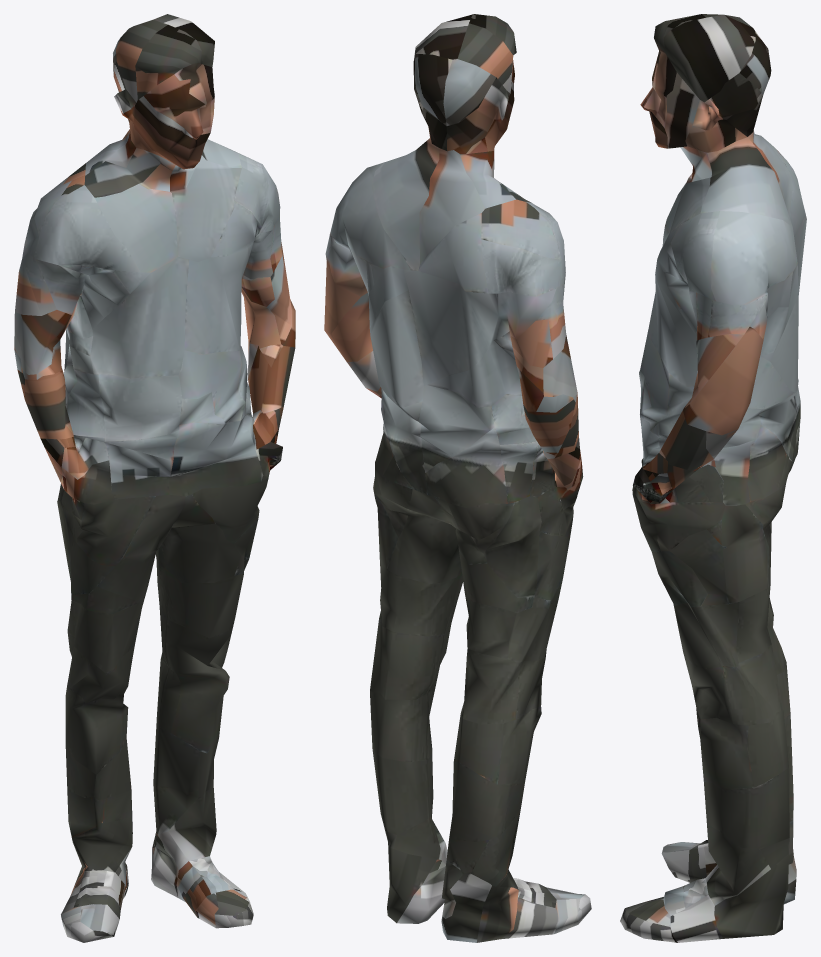
Rendered from passenger-adult-male.glb.
3 views of the same model, side by side, from view 1: azimuth 30°, elevation 25°; view 2: azimuth 150°, elevation 25°; view 3: azimuth 270°, elevation 25° (orthographic).
Visible parts, largest first — view 1: mesh_node; view 2: mesh_node; view 3: mesh_node.
Boxes of the visible parts, x1,y1,x2,y2 form: mesh_node: (14,14,295,942); mesh_node: (324,14,591,942); mesh_node: (620,14,806,942).
Size of the model in its own units: 0.5708 by 1.9 by 0.3587.
1 material, 1 textured.
